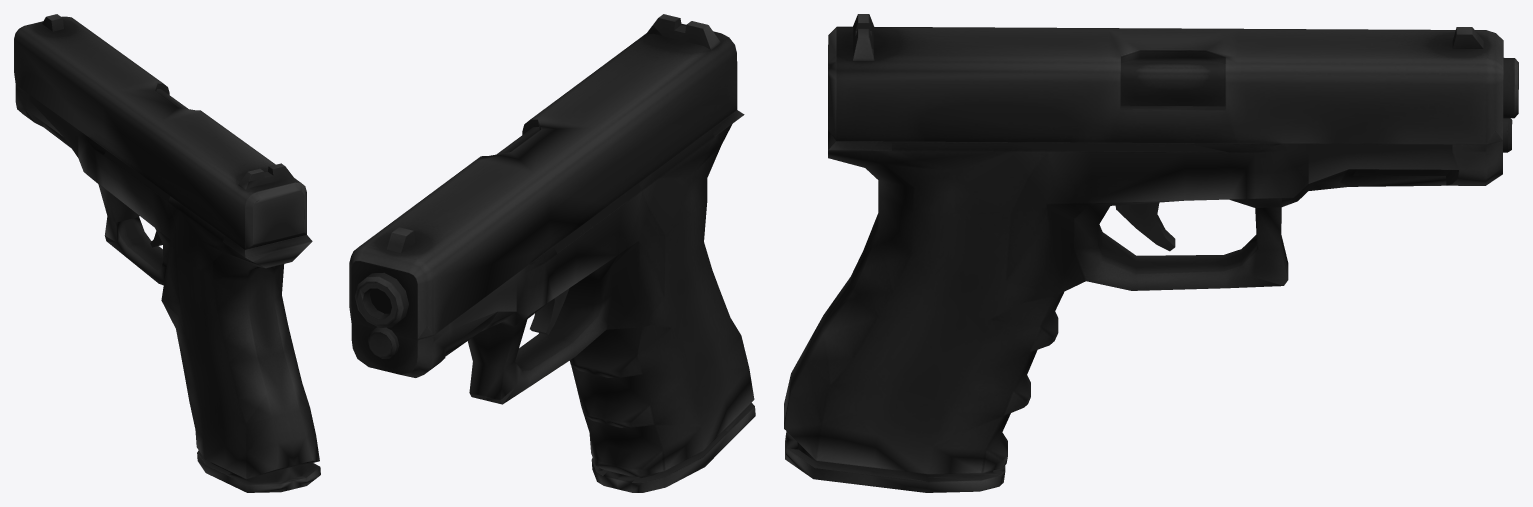
File: Pistol.fbx
3 views of the same model, side by side, from view 1: azimuth 30°, elevation 25°; view 2: azimuth 150°, elevation 25°; view 3: azimuth 270°, elevation 25° (orthographic). The views are drawn at different scales.
Parts seen in each view (by area): view 1: Pistol_Model; view 2: Pistol_Model; view 3: Pistol_Model.
Boxes of the visible parts, left/top/right/bottom form: Pistol_Model: left=14, top=14, right=320, bottom=492; Pistol_Model: left=349, top=14, right=755, bottom=492; Pistol_Model: left=784, top=14, right=1518, bottom=492.
Bounding box in the file's own units: 4.95 × 19.56 × 28.98.
